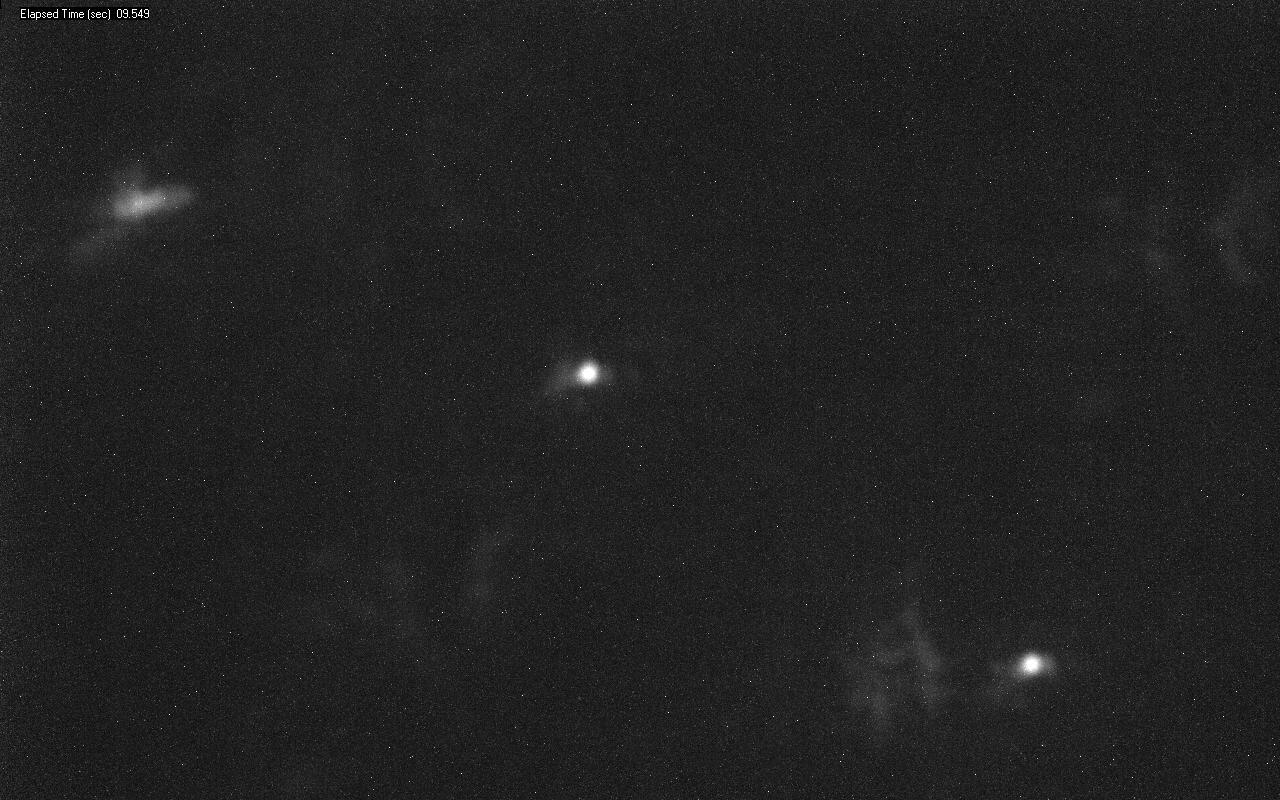Bead: (1019, 654, 1043, 675), (579, 363, 597, 384)
